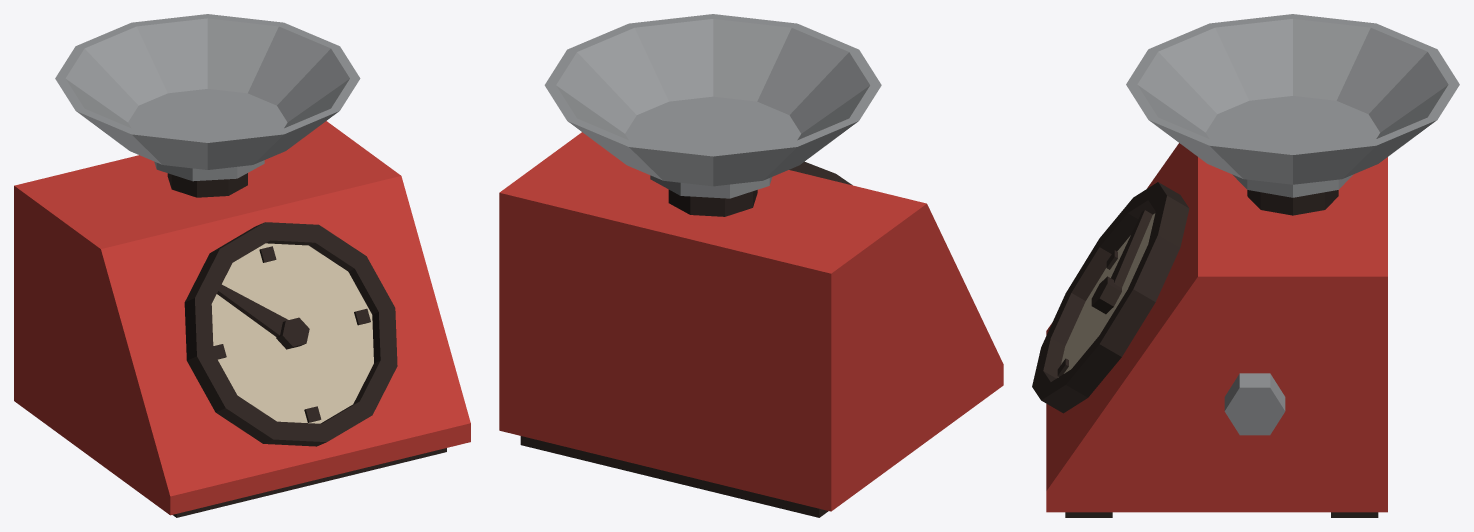
File: FN_Scales_Kitchen.glb
The picture shows the model from 3 angles, left to right: view 1: azimuth 30°, elevation 25°; view 2: azimuth 150°, elevation 25°; view 3: azimuth 270°, elevation 25°; orthographic projection. The views are drawn at different scales.
Parts seen in each view (by area): view 1: FN_Scales_Kitchen; view 2: FN_Scales_Kitchen; view 3: FN_Scales_Kitchen.
Boxes of the visible parts, bbox=[...] form: FN_Scales_Kitchen: bbox=[14, 14, 470, 517]; FN_Scales_Kitchen: bbox=[499, 14, 1003, 517]; FN_Scales_Kitchen: bbox=[1032, 14, 1459, 517].
Size of the model in its own units: 0.218 by 0.21 by 0.2255.
1 material, 1 textured.
